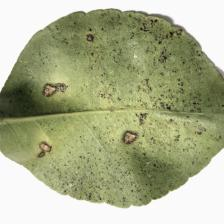canker: (29, 29, 188, 171)
